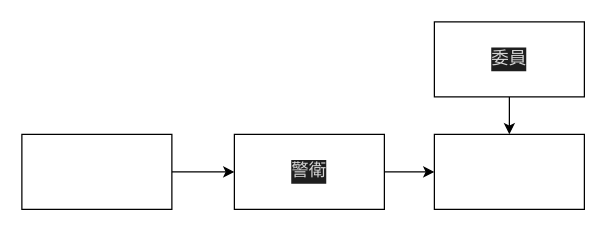
The diagram is 606 pixels wide and 231 high, and some of its shapes have lost their labels. The box of each missing label's shape, as (x1, y1, x2, y2) in pixels:
住戶: (433, 133, 584, 209)
郵差: (21, 133, 172, 209)
